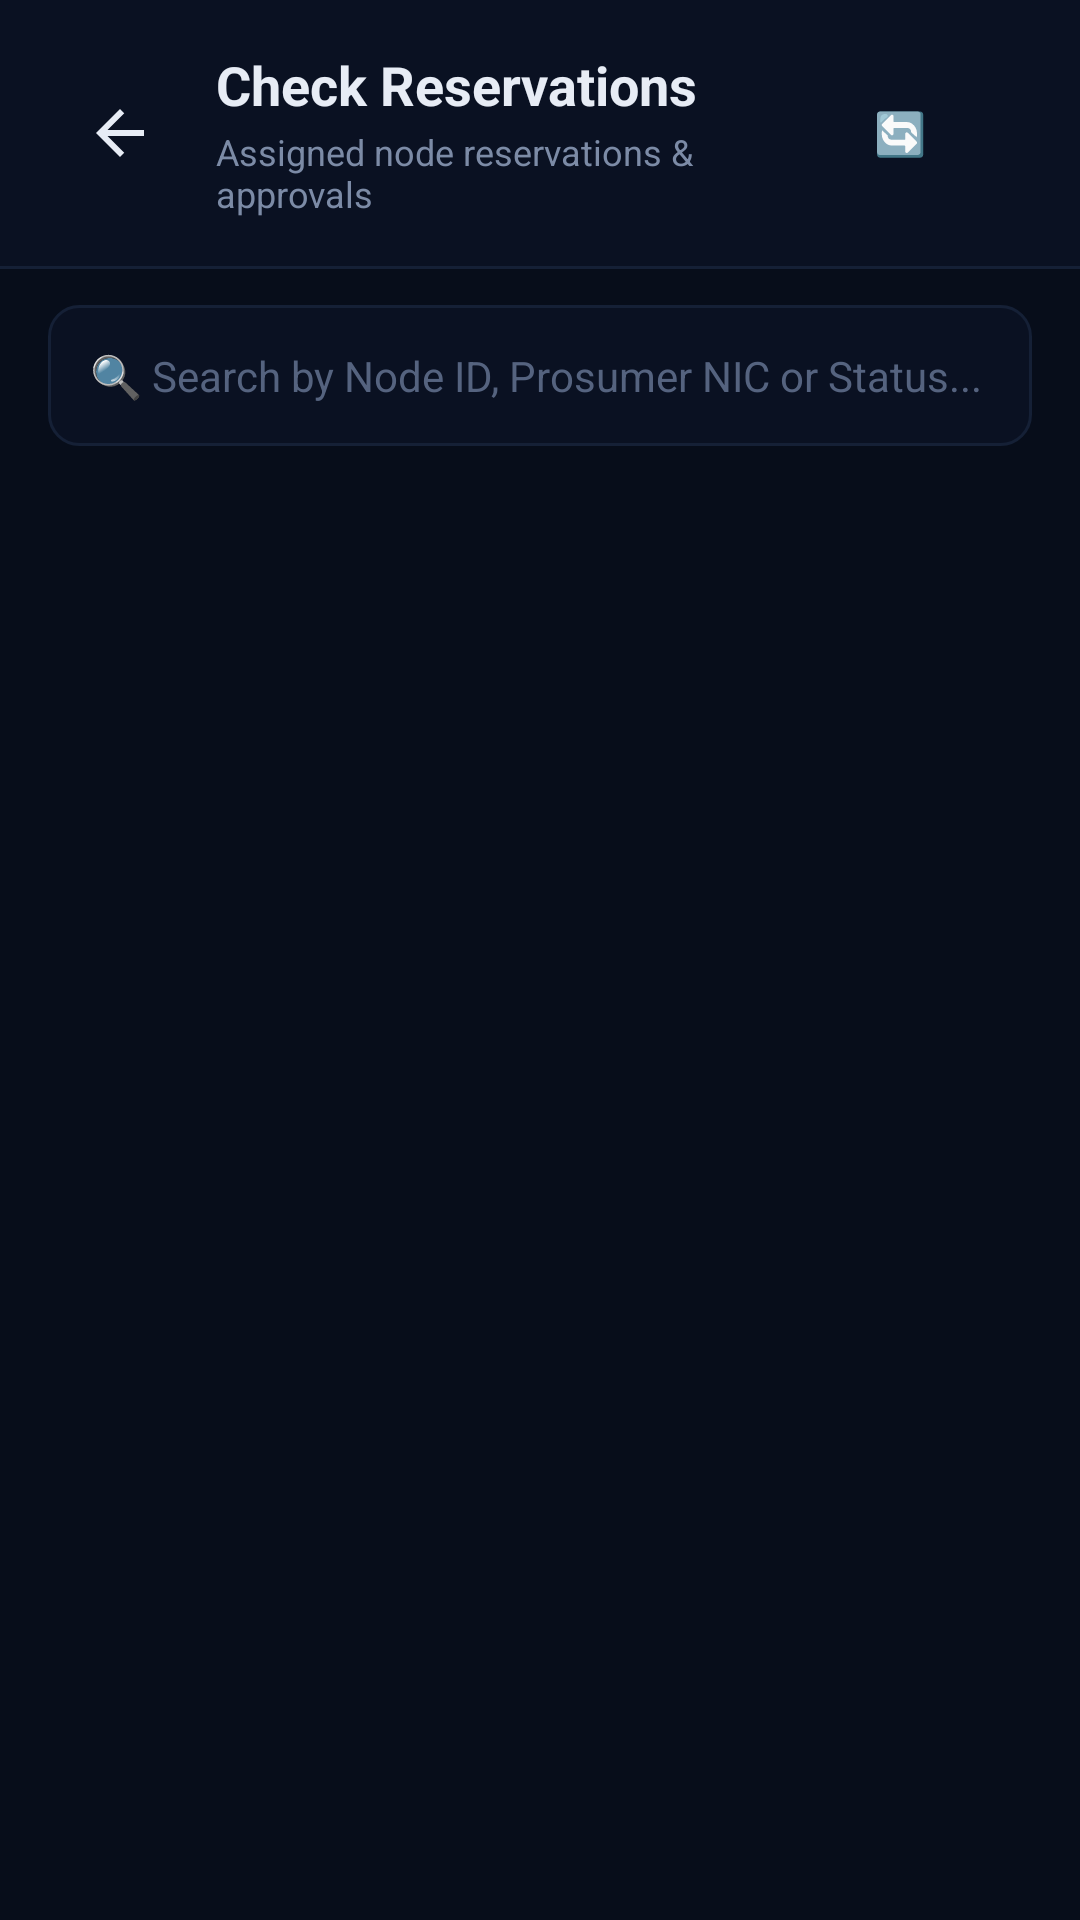

Icons on this 1080 × 1920 Android screen, each with its box as (x1, y1, x2, y2):
Back: (96, 109, 144, 157)
